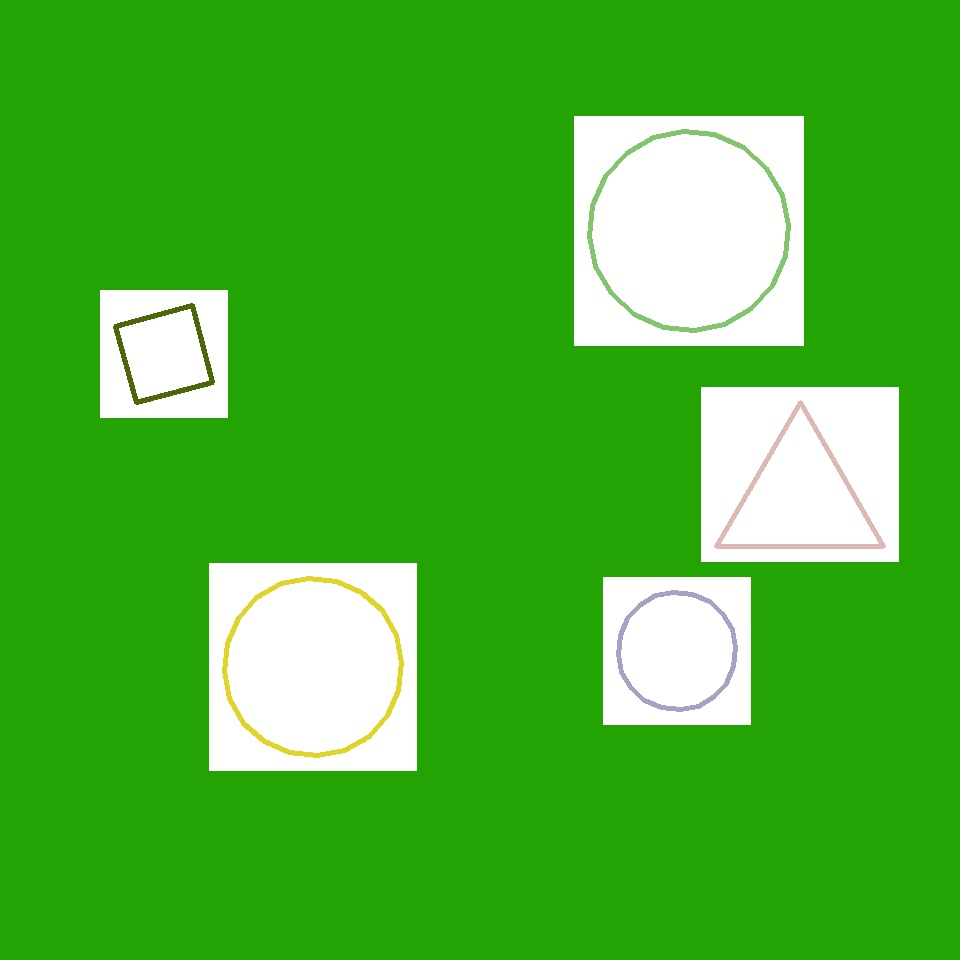circle: (716, 426, 884, 570), (410, 520, 518, 628)
square: (627, 290, 892, 556), (255, 450, 496, 690), (116, 306, 213, 403)
triangle: (590, 132, 788, 330), (224, 578, 402, 756), (136, 706, 270, 840), (618, 592, 736, 710)
